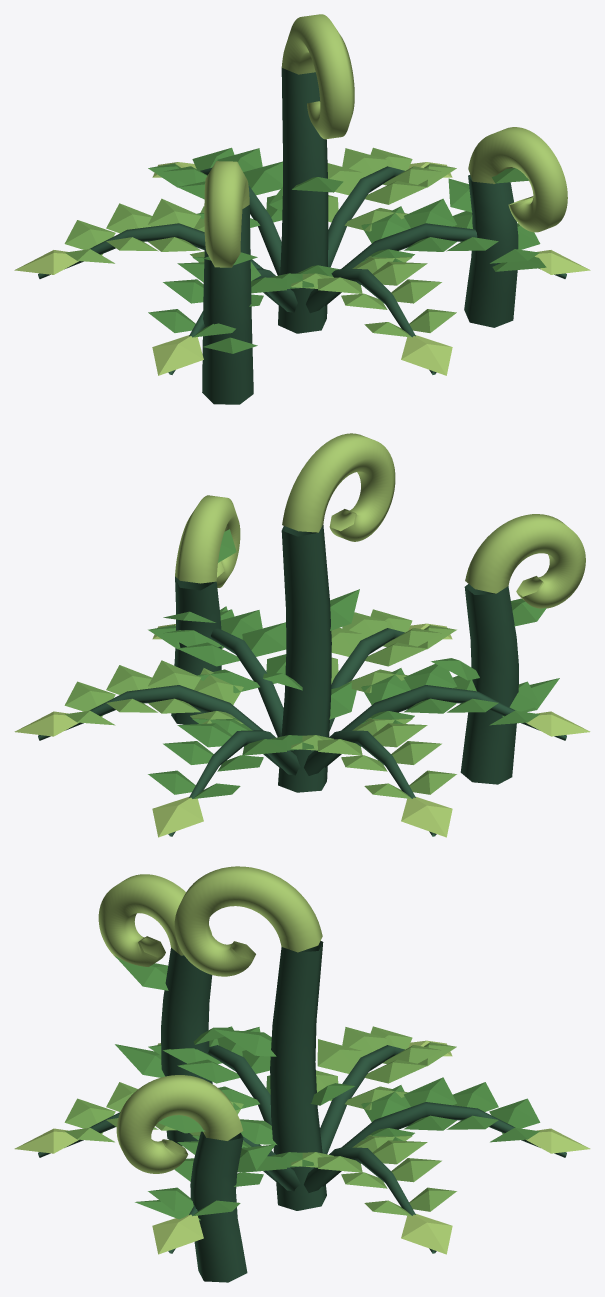
Rendered from fiddlehead_ferns.glb.
3 views of the same model, one above another, from view 1: azimuth 30°, elevation 25°; view 2: azimuth 150°, elevation 25°; view 3: azimuth 270°, elevation 25° (orthographic).
Parts seen in each view (by area): view 1: Pigment_2c543d, Pigment_a5c76c, Pigment_4f8c45, Pigment_73a553; view 2: Pigment_2c543d, Pigment_a5c76c, Pigment_4f8c45, Pigment_73a553; view 3: Pigment_2c543d, Pigment_a5c76c, Pigment_4f8c45, Pigment_73a553.
Part boxes in pixels (left/top/right/bottom): Pigment_2c543d: left=38, top=68, right=566, bottom=404; Pigment_a5c76c: left=14, top=14, right=590, bottom=375; Pigment_4f8c45: left=148, top=147, right=546, bottom=353; Pigment_73a553: left=64, top=147, right=456, bottom=337; Pigment_2c543d: left=38, top=525, right=566, bottom=836; Pigment_a5c76c: left=14, top=433, right=590, bottom=837; Pigment_4f8c45: left=148, top=529, right=559, bottom=798; Pigment_73a553: left=64, top=609, right=456, bottom=798; Pigment_2c543d: left=38, top=941, right=566, bottom=1282; Pigment_a5c76c: left=14, top=866, right=590, bottom=1254; Pigment_4f8c45: left=115, top=956, right=540, bottom=1220; Pigment_73a553: left=64, top=1026, right=456, bottom=1216.
Bounding box in the file's own units: 5.02 × 3.62 × 5.8.
